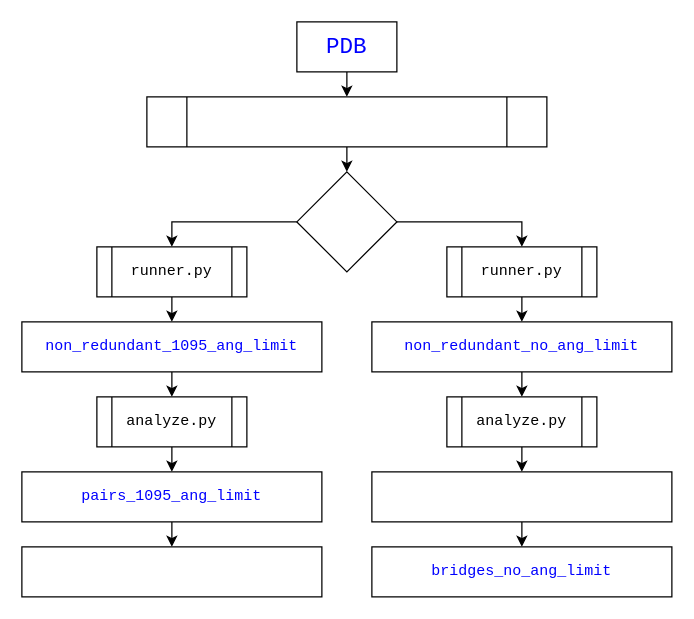
Some shapes in this 694 by 619 pixel diagram are drawn without their labels. The shapes that lost their labels are listed below. From the top down, each one's centre as x and y in pixels, then its label:
At [346,121]: "Import data based on low_redundancy_delimiter_list.txt".
At [521,496]: "pairs_no_ang_limit".
At [171,571]: "bridges_1095_ang_limit".
